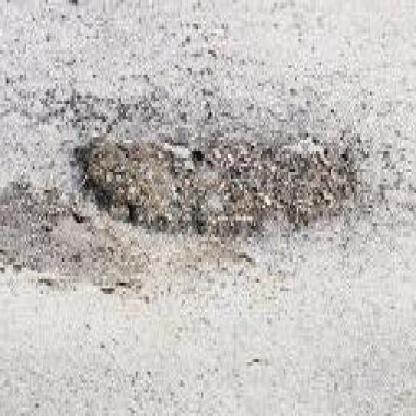pothole: (72, 136, 361, 249)
